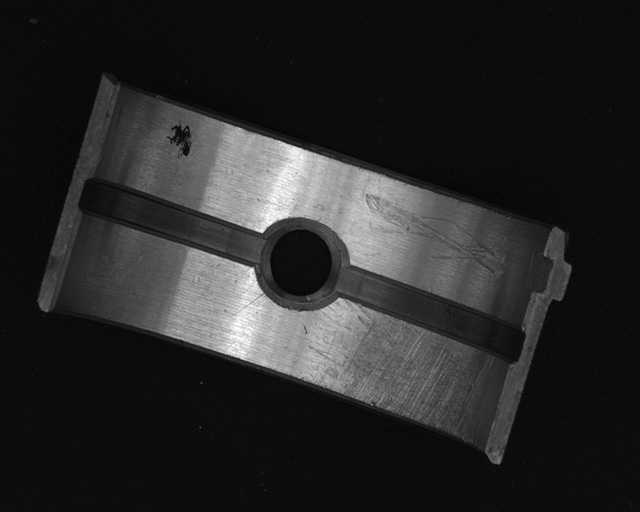blot: (164, 121, 195, 160)
gap: (333, 264, 525, 365), (79, 175, 266, 264)
hole: (261, 221, 339, 301)
nick: (362, 193, 502, 276)
scratch: (307, 293, 490, 445)
